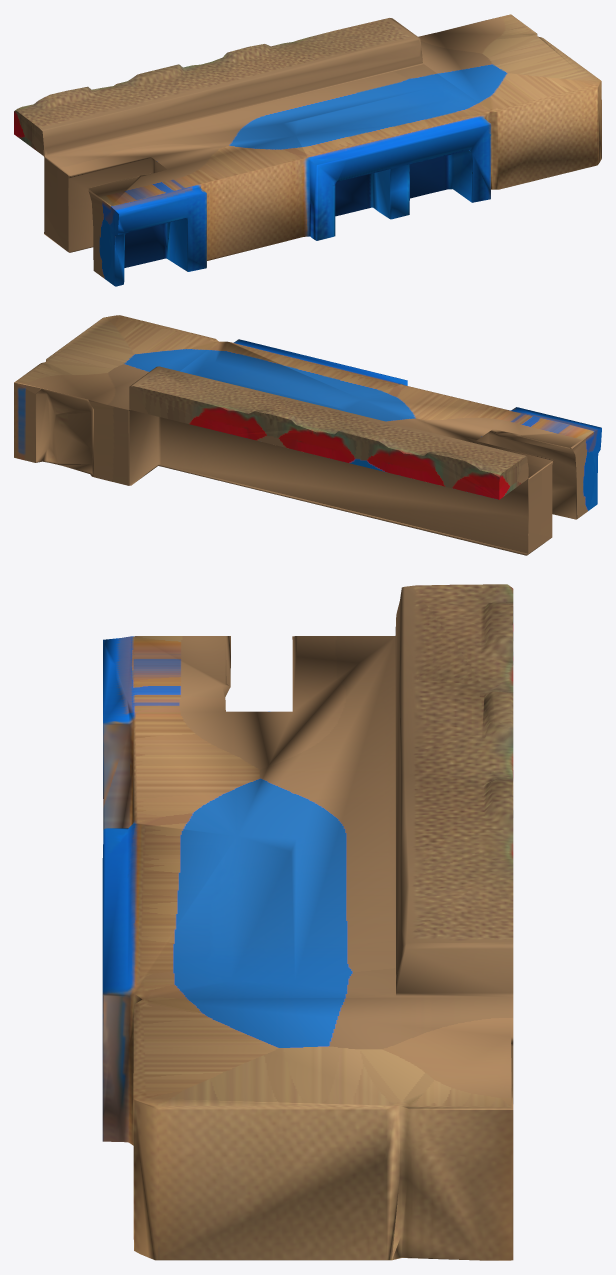
File: 10-roof-front-right.fbx
3 renders of one model, top to bottom at view 1: azimuth 30°, elevation 25°; view 2: azimuth 150°, elevation 25°; view 3: azimuth 270°, elevation 25°, orthographic. The views are drawn at different scales.
Visible parts, largest first — view 1: roof-front-right; view 2: roof-front-right; view 3: roof-front-right.
Boxes of the visible parts, bbox=[...] form: roof-front-right: bbox=[14, 14, 601, 286]; roof-front-right: bbox=[14, 315, 601, 555]; roof-front-right: bbox=[102, 584, 513, 1260].
Bounding box in the file's own units: 5044 × 1064 × 1847.
1 material, 1 textured.
